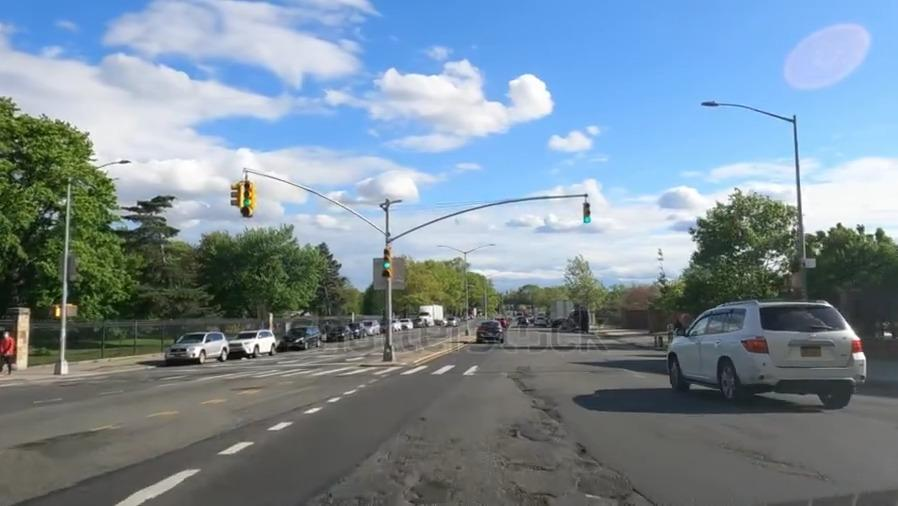car: (671, 306, 868, 404), (170, 328, 227, 363), (230, 330, 275, 359), (281, 328, 320, 351), (476, 318, 503, 346)
pedestrian: (148, 354, 665, 384)
person: (0, 325, 21, 373), (672, 313, 684, 331)
pothole: (569, 439, 597, 469)
road damage: (568, 464, 648, 506), (398, 464, 466, 503), (507, 417, 563, 448), (499, 454, 553, 476), (514, 392, 559, 418), (502, 486, 558, 506), (504, 361, 535, 392)
traffic light: (225, 176, 259, 219), (376, 244, 395, 282), (578, 195, 597, 229)
